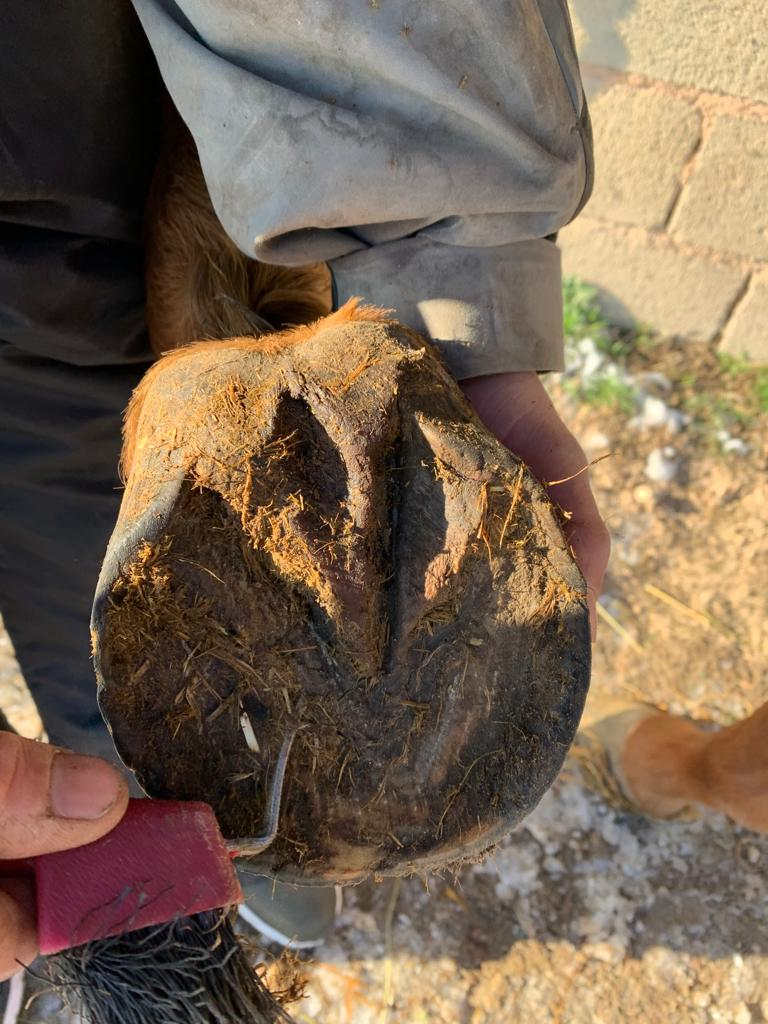horsesole: (91, 410, 593, 892)
